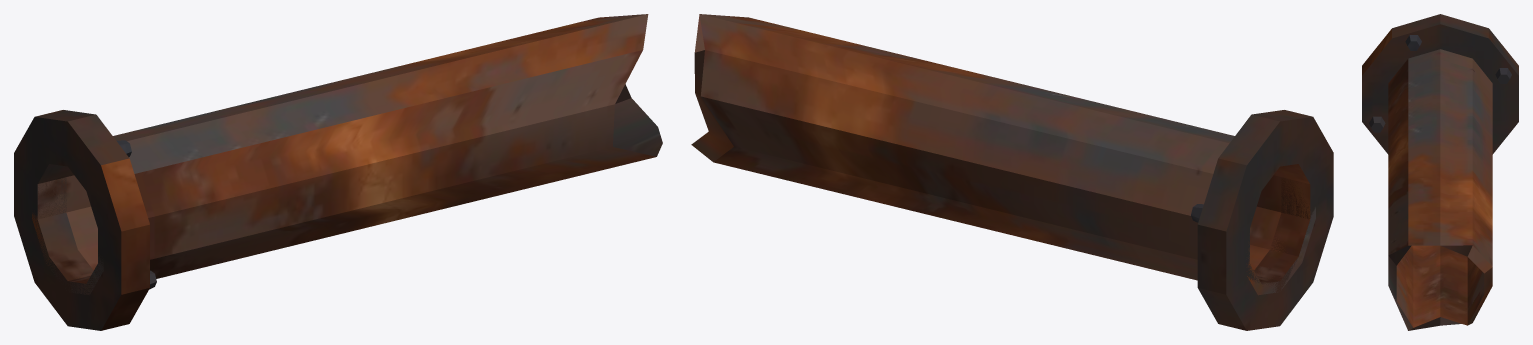
Rendered from Pipe_Piece.glb.
3 views of the same model, side by side, from view 1: azimuth 30°, elevation 25°; view 2: azimuth 150°, elevation 25°; view 3: azimuth 270°, elevation 25° (orthographic). The views are drawn at different scales.
Visible parts, largest first — view 1: Pipe_Piece; view 2: Pipe_Piece; view 3: Pipe_Piece.
Boxes of the visible parts, <box> form: Pipe_Piece: <box>14,14,662,330</box>; Pipe_Piece: <box>691,14,1333,330</box>; Pipe_Piece: <box>1362,14,1518,330</box>.
Size of the model in its own units: 0.4452 by 0.15 by 0.1427.
3 materials, 3 textured.
